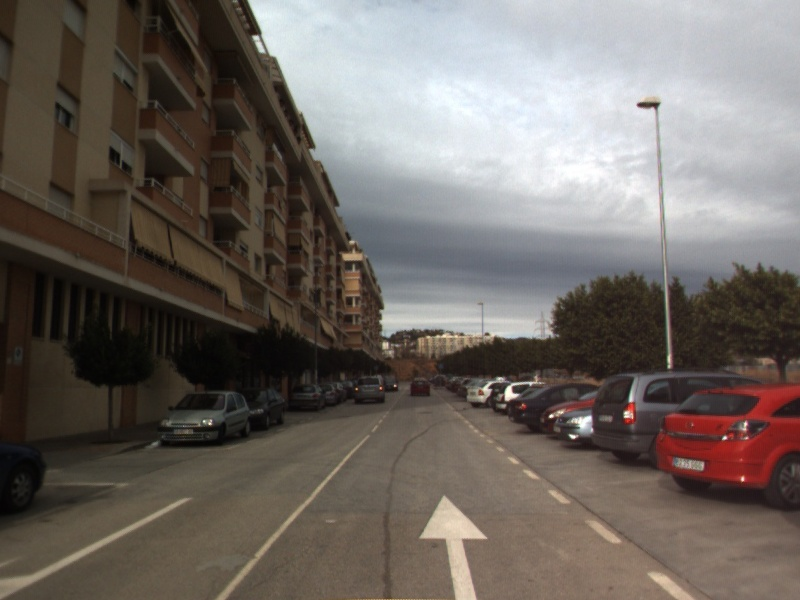STRAIGHT: (417, 492, 490, 600)
